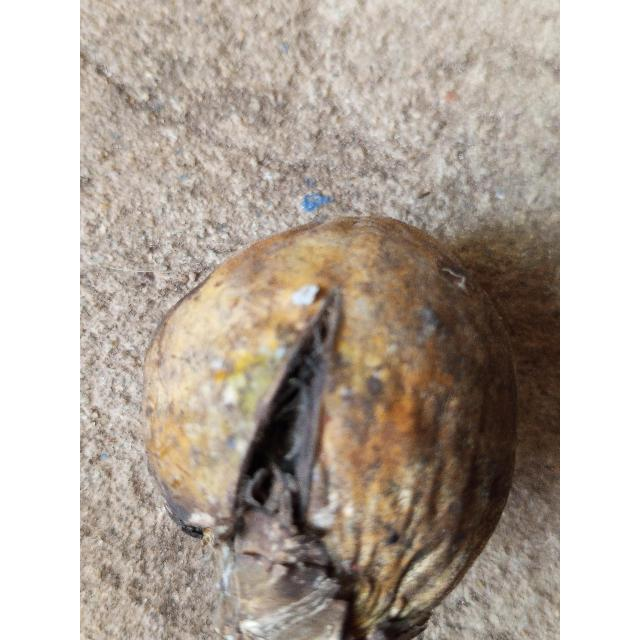damaged: (143, 213, 519, 640)
